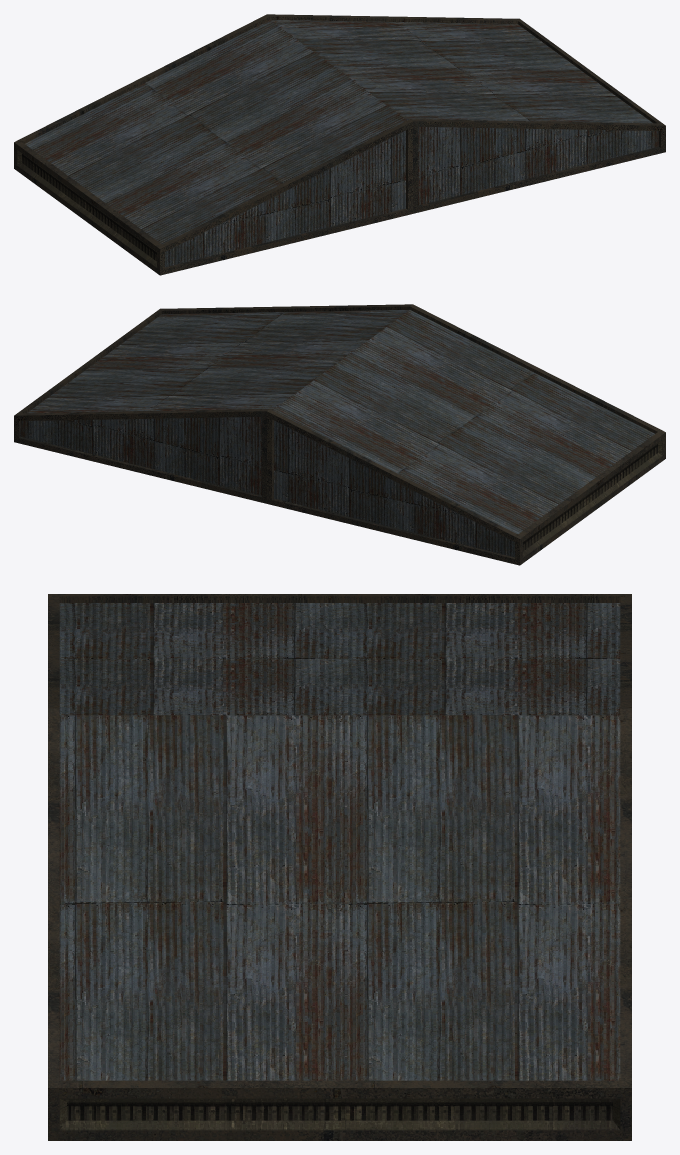
Rendered from roof_mh_3.glb.
The picture shows the model from 3 angles, top to bottom: view 1: azimuth 30°, elevation 25°; view 2: azimuth 150°, elevation 25°; view 3: azimuth 270°, elevation 25°; orthographic projection. The views are drawn at different scales.
Parts seen in each view (by area): view 1: roof_mh_3; view 2: roof_mh_3; view 3: roof_mh_3.
Boxes of the visible parts, x1,y1,x2,y2 form: roof_mh_3: (14, 14, 665, 275); roof_mh_3: (14, 304, 665, 565); roof_mh_3: (48, 594, 631, 1140).
Bounding box in the file's own units: 8 × 1.4 × 4.
6 materials, 6 textured.
